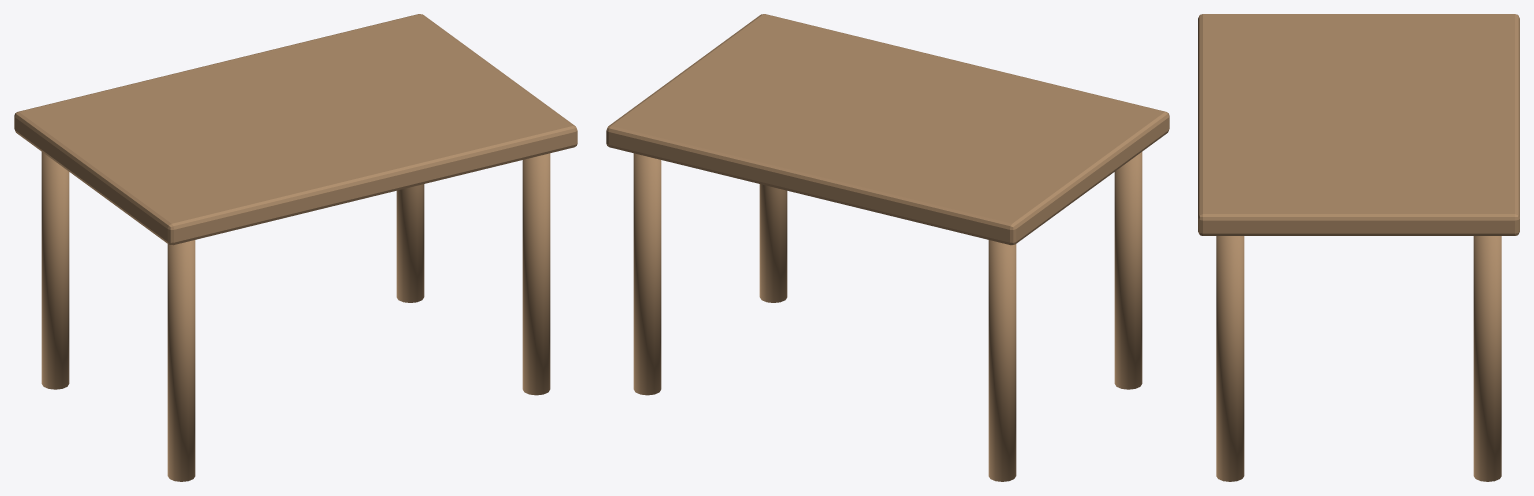
Rendered from mesa.glb.
The picture shows the model from 3 angles, left to right: view 1: azimuth 30°, elevation 25°; view 2: azimuth 150°, elevation 25°; view 3: azimuth 270°, elevation 25°; orthographic projection. The views are drawn at different scales.
Visible parts, largest first — view 1: Tampo, Perna, Perna.002, Perna.001, Perna.003; view 2: Tampo, Perna.001, Perna.003, Perna, Perna.002; view 3: Tampo, Perna.002, Perna.003.
Part boxes in pixels (x1,y1,x2,y2): Tampo: (14, 14, 577, 245); Perna: (167, 240, 195, 481); Perna.002: (522, 153, 550, 395); Perna.001: (41, 152, 69, 389); Perna.003: (396, 184, 424, 302); Tampo: (606, 14, 1169, 245); Perna.001: (988, 240, 1016, 481); Perna.003: (633, 153, 661, 395); Perna: (1114, 152, 1142, 389); Perna.002: (759, 184, 787, 302); Tampo: (1198, 14, 1519, 235); Perna.002: (1216, 236, 1244, 481); Perna.003: (1473, 236, 1501, 481).
Bounding box in the file's own units: 1.2 × 0.75 × 0.8.
